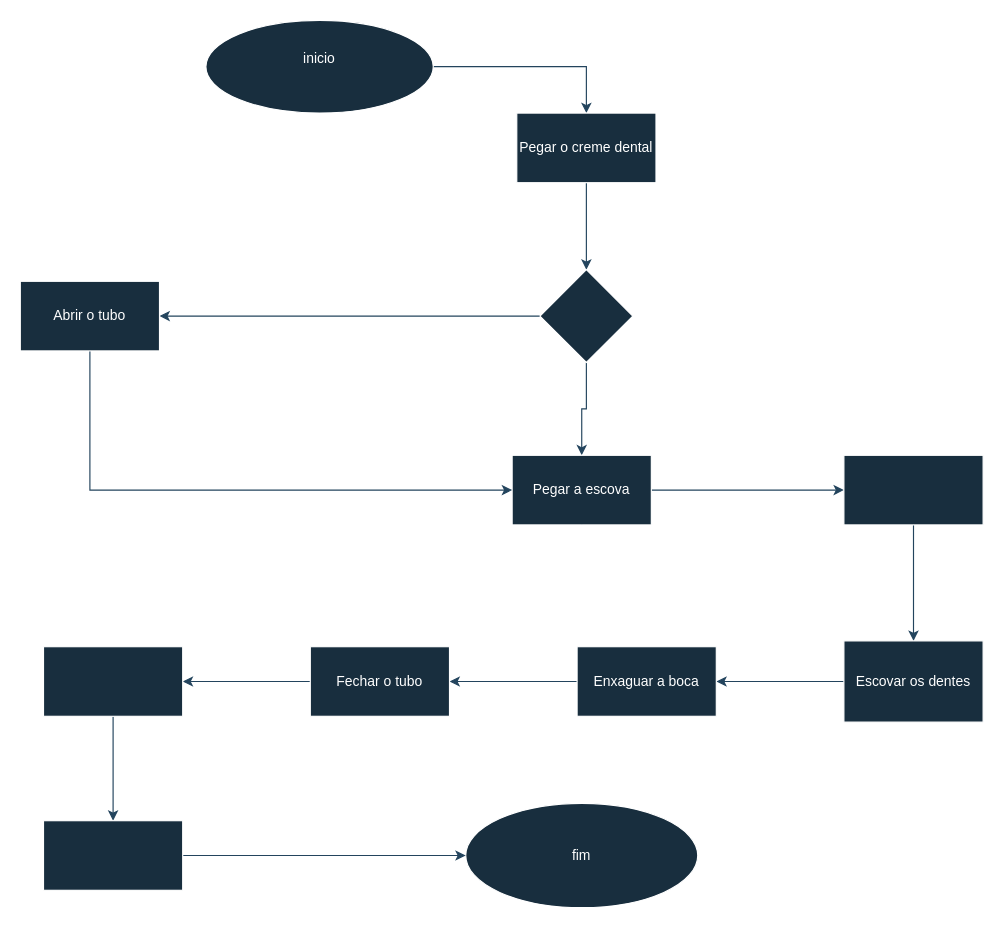
Some shapes in this 1003 by 928 pixel diagram are drawn without their labels. The shapes that lost their labels are listed below. From the top down, each one's centre as x and y in pixels, then its label:
At point 586,315: "Tubo está aberto ?".
At point 913,489: "Colocar o creme dental na escova".
At point 112,681: "Guardar o tubo".
At point 112,855: "Guardar a escova".
